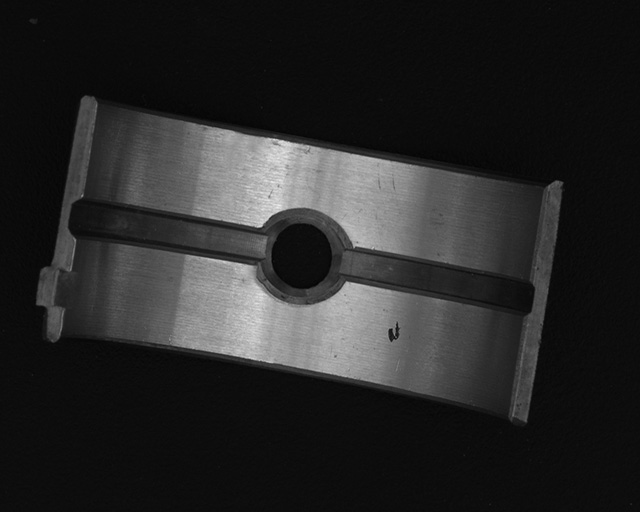blot: (388, 321, 401, 343)
gap: (70, 198, 271, 265), (340, 244, 532, 313)
hole: (265, 212, 345, 298)
